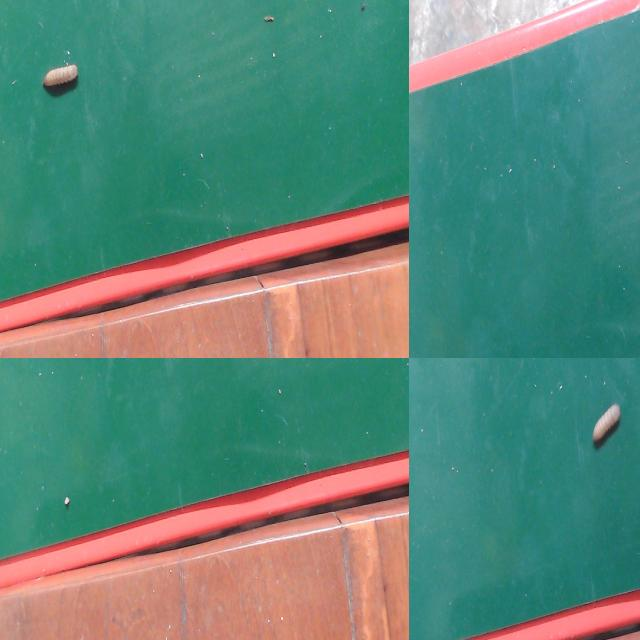Maggot: (589, 404, 622, 451), (41, 62, 79, 98)
